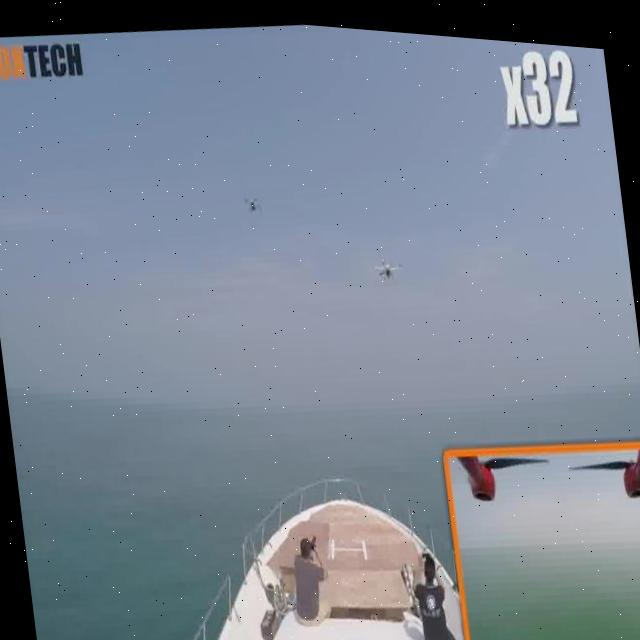drone: (368, 240, 408, 292), (237, 176, 270, 221)
